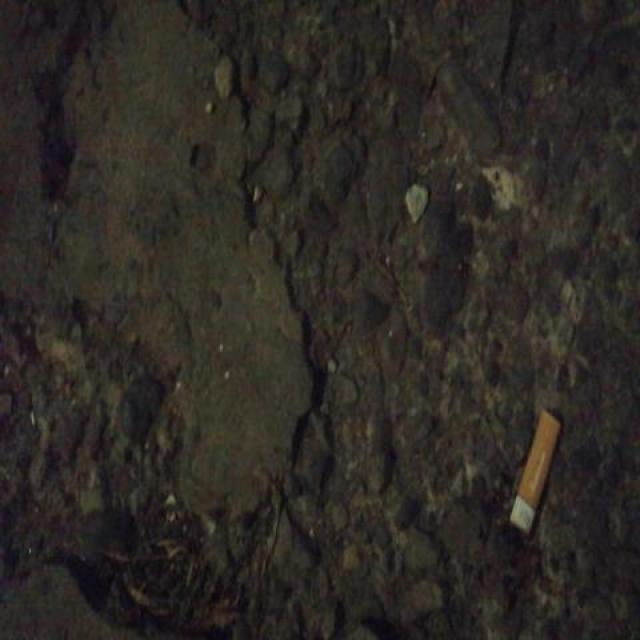non-organic waste: (503, 402, 566, 543)
